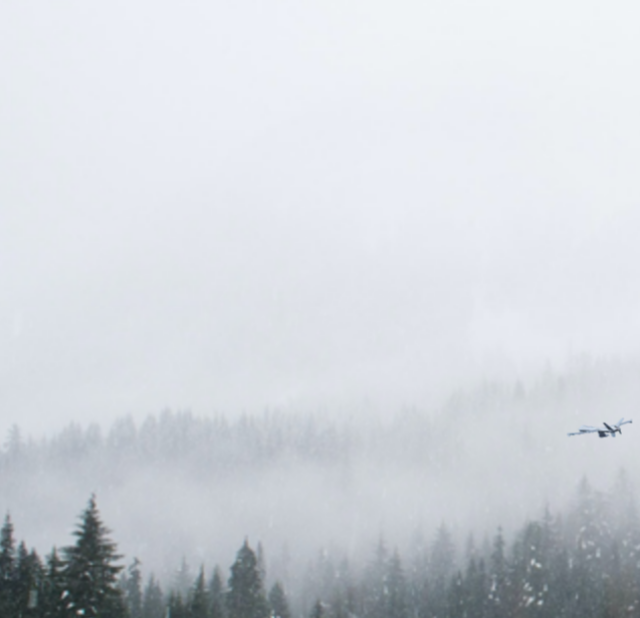military drone: (565, 416, 632, 438)
